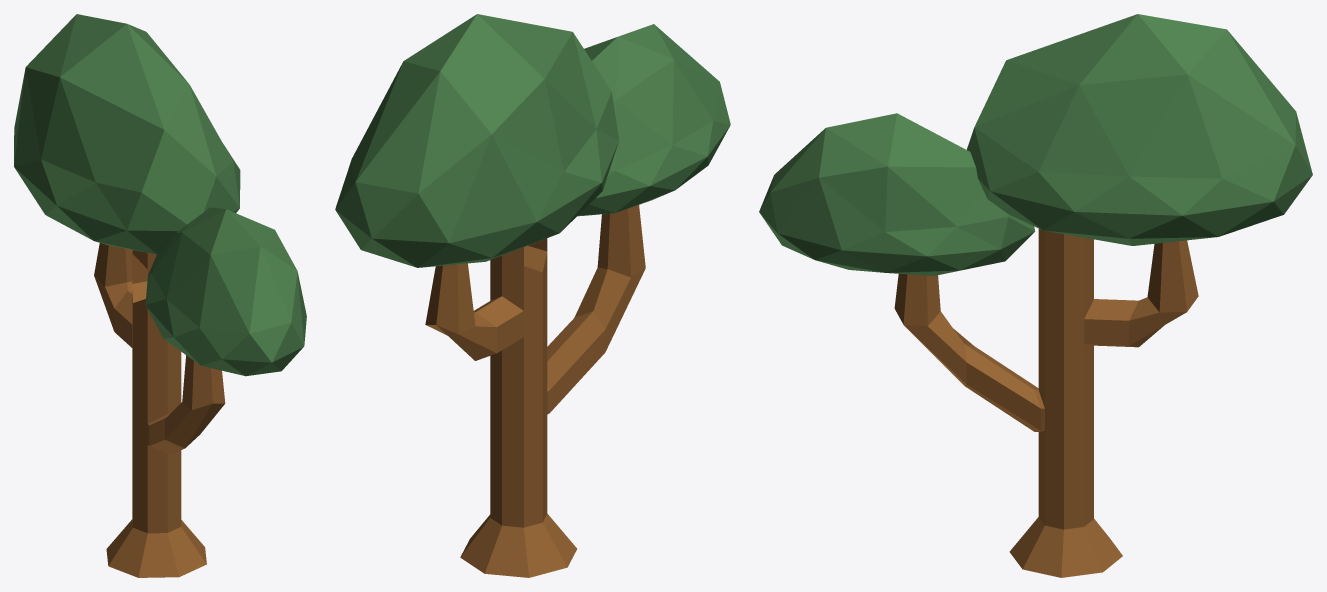
Rendered from TreeWithHole1.fbx.
3 views of the same model, side by side, from view 1: azimuth 30°, elevation 25°; view 2: azimuth 150°, elevation 25°; view 3: azimuth 270°, elevation 25° (orthographic). The views are drawn at different scales.
Parts seen in each view (by area): view 1: Icosphere.006, Cylinder.003, Icosphere.007; view 2: Icosphere.006, Cylinder.003, Icosphere.007; view 3: Icosphere.006, Cylinder.003, Icosphere.007.
Part boxes in pixels (<box>): Icosphere.006: <box>14,14,240,254</box>; Cylinder.003: <box>94,243,225,577</box>; Icosphere.007: <box>145,207,306,376</box>; Icosphere.006: <box>335,14,619,267</box>; Cylinder.003: <box>425,205,645,577</box>; Icosphere.007: <box>577,24,730,216</box>; Icosphere.006: <box>966,14,1312,245</box>; Cylinder.003: <box>894,228,1198,577</box>; Icosphere.007: <box>759,113,1035,275</box>.
Bounding box in the file's own units: 303 × 808 × 748.
